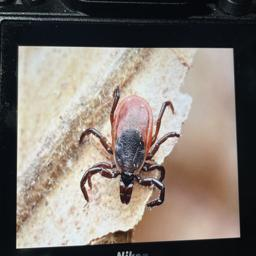Ixodes scapularis: (78, 85, 180, 206)
